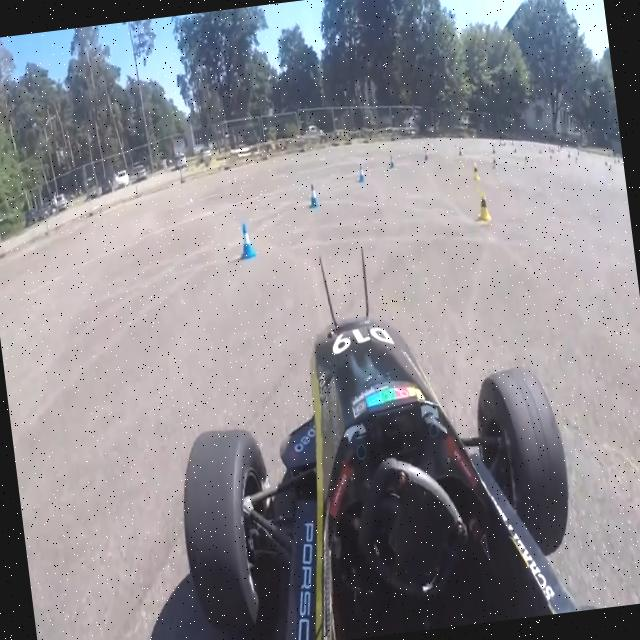blue_cone: (235, 220, 258, 260), (306, 181, 320, 209), (356, 163, 366, 183)
yellow_cone: (476, 190, 492, 222)
